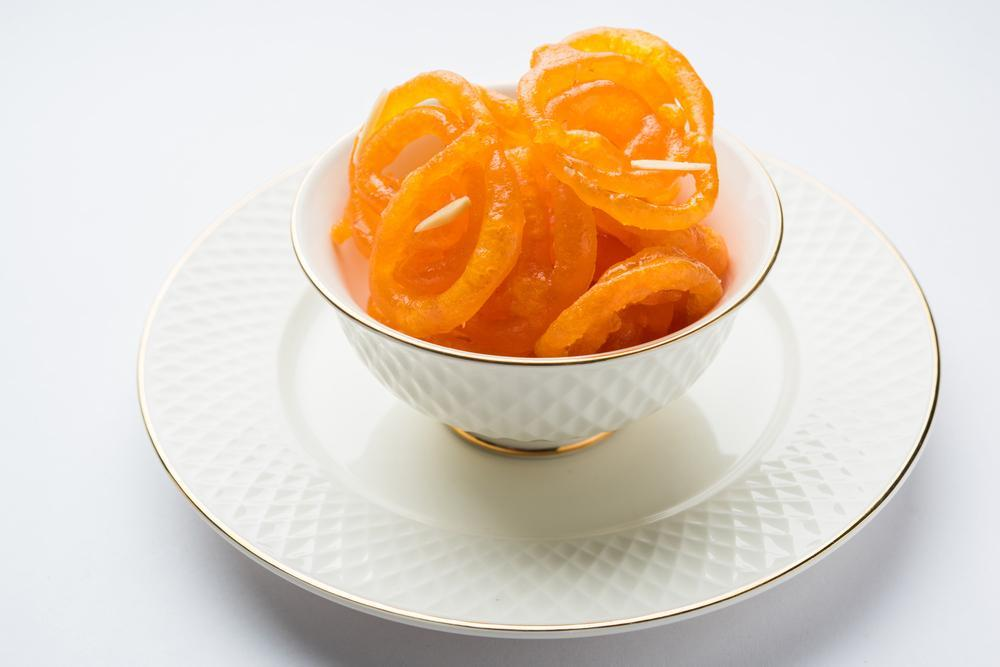jalebi: (292, 33, 774, 334)
